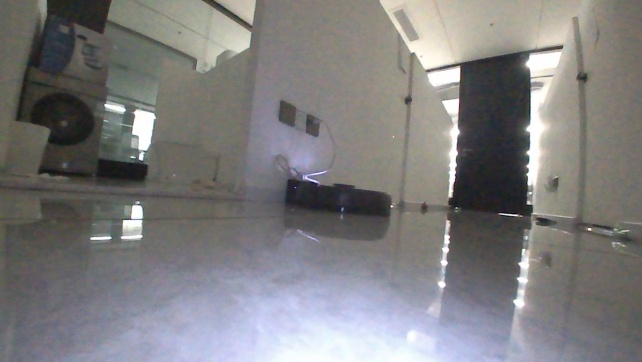door_anno: (445, 45, 537, 217)
pet_feces: (414, 195, 432, 214)
shoe: (185, 173, 230, 196)
toilet: (148, 132, 225, 189)
trash_can: (2, 111, 50, 181)
washing_machine: (13, 63, 109, 186)
wire: (271, 111, 339, 186)
